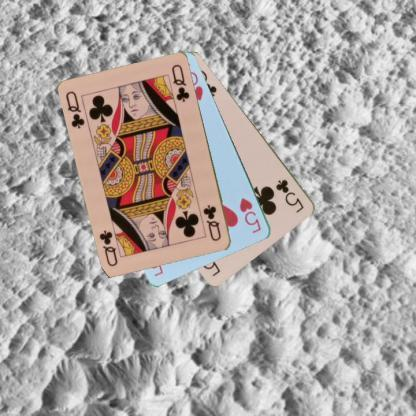5c: (273, 176, 306, 214)
5h: (237, 194, 262, 235)
Qc: (63, 89, 87, 130), (201, 202, 222, 243)
